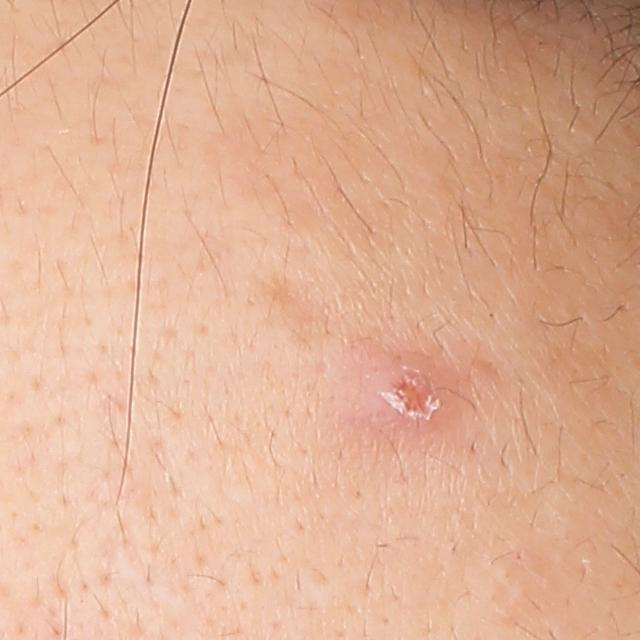papule: (347, 353, 451, 433)
